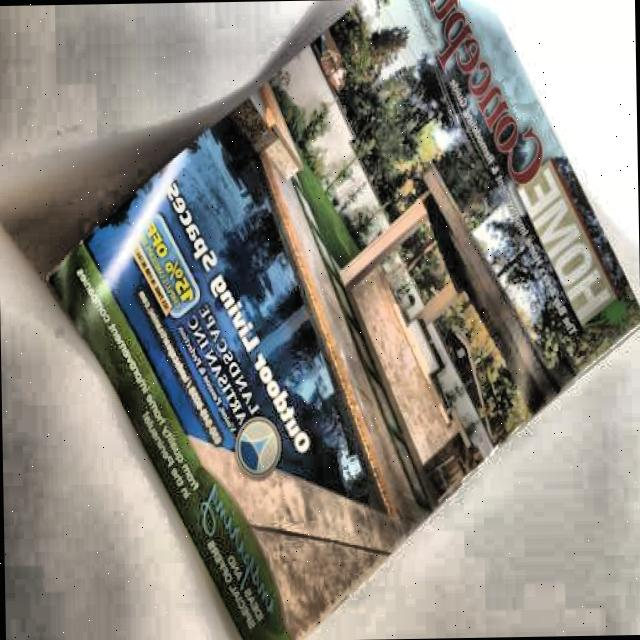paper: (25, 0, 640, 600)
